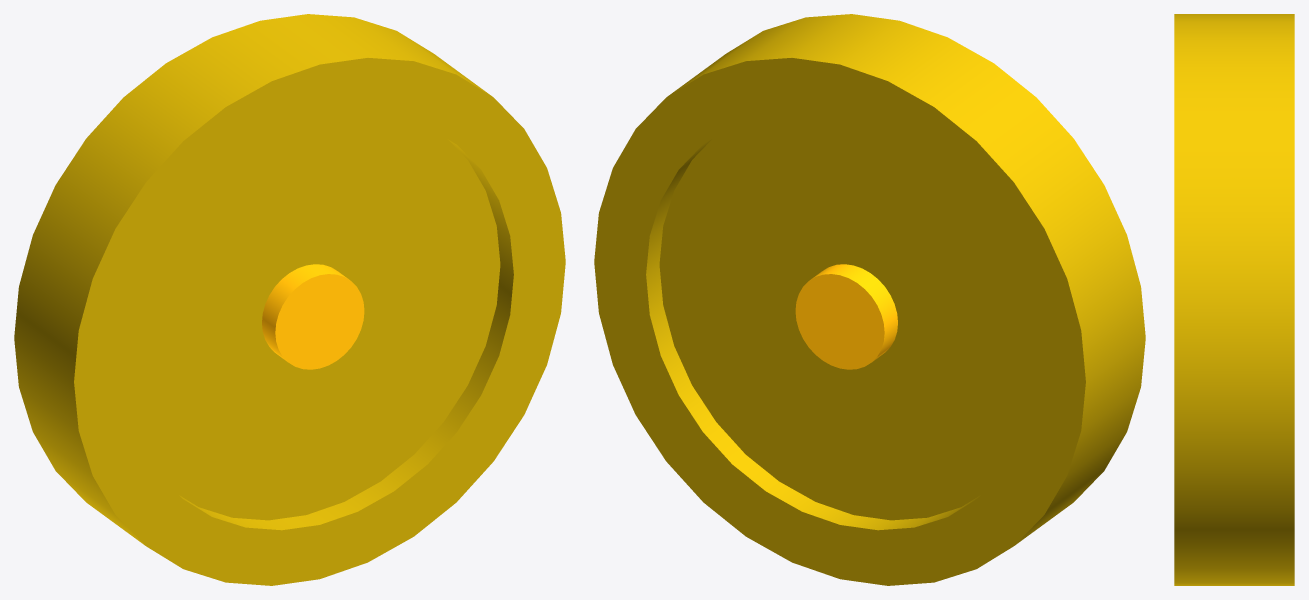
Rendered from Coin_circle.fbx.
The picture shows the model from 3 angles, left to right: view 1: azimuth 30°, elevation 25°; view 2: azimuth 150°, elevation 25°; view 3: azimuth 270°, elevation 25°; orthographic projection.
Visible parts, largest first — view 1: Coin_circle; view 2: Coin_circle; view 3: Coin_circle.
Boxes of the visible parts, x1,y1,x2,y2 form: Coin_circle: (14, 14, 565, 585); Coin_circle: (594, 14, 1145, 585); Coin_circle: (1174, 14, 1294, 585).
Bounding box in the file's own units: 2.03 × 0.4286 × 2.03.
